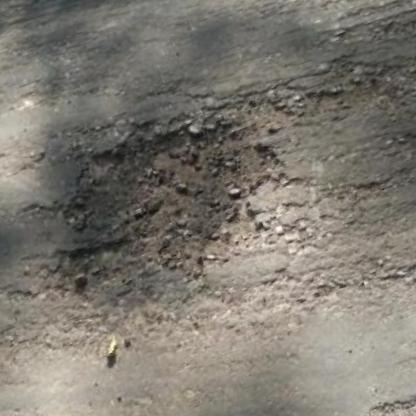pothole: (34, 84, 312, 311), (351, 358, 416, 416)
